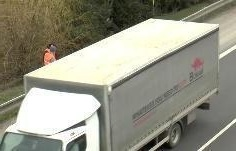truck: (1, 18, 219, 150)
